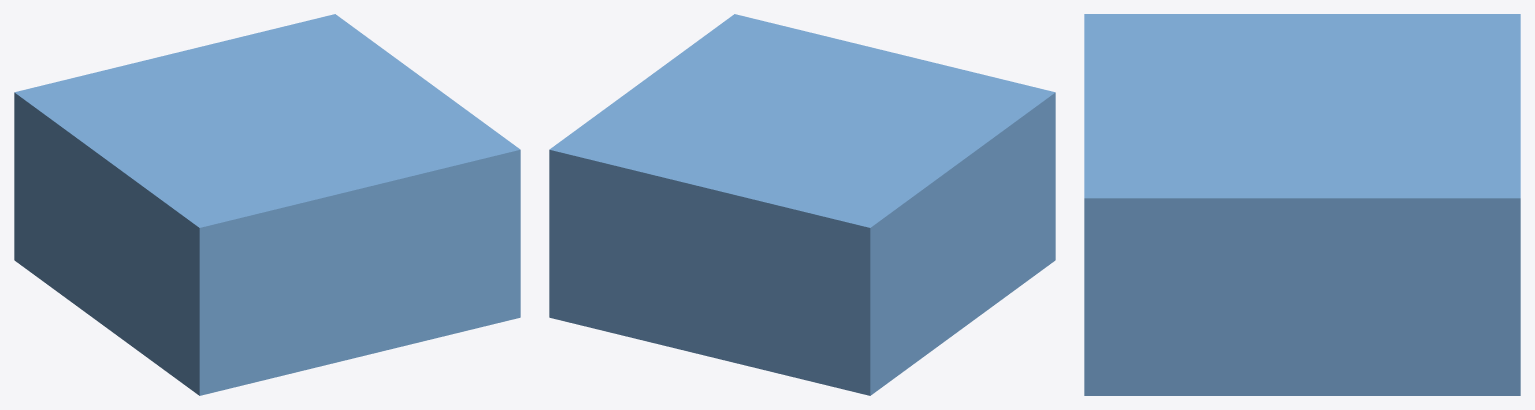
The model's file is Spawn_TopHalf.glb.
3 renders of one model, left to right at view 1: azimuth 30°, elevation 25°; view 2: azimuth 150°, elevation 25°; view 3: azimuth 270°, elevation 25°, orthographic. The views are drawn at different scales.
Parts seen in each view (by area): view 1: Spawn_TopHalf_body; view 2: Spawn_TopHalf_body; view 3: Spawn_TopHalf_body.
Part boxes in pixels (box(x1,y1,x2,y2)): Spawn_TopHalf_body: box(14, 14, 520, 395); Spawn_TopHalf_body: box(549, 14, 1055, 395); Spawn_TopHalf_body: box(1084, 14, 1520, 395).
Size of the model in its own units: 1 by 0.5 by 1.
